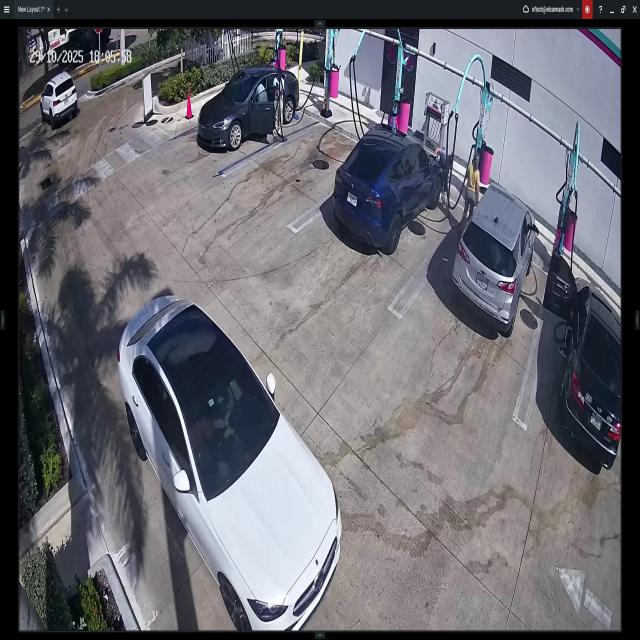Car: (117, 289, 340, 632), (544, 248, 622, 468), (338, 122, 444, 261), (451, 183, 538, 334), (199, 64, 299, 158), (40, 73, 77, 118)
